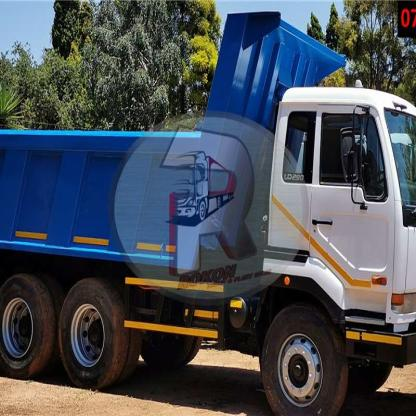dump_truck: (1, 2, 416, 407)
